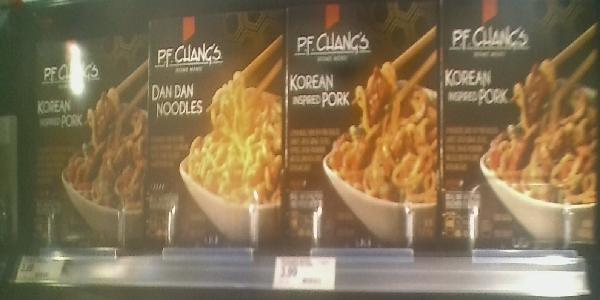pizza1: (443, 1, 600, 251), (284, 1, 439, 247), (147, 8, 286, 251), (22, 30, 148, 254)
